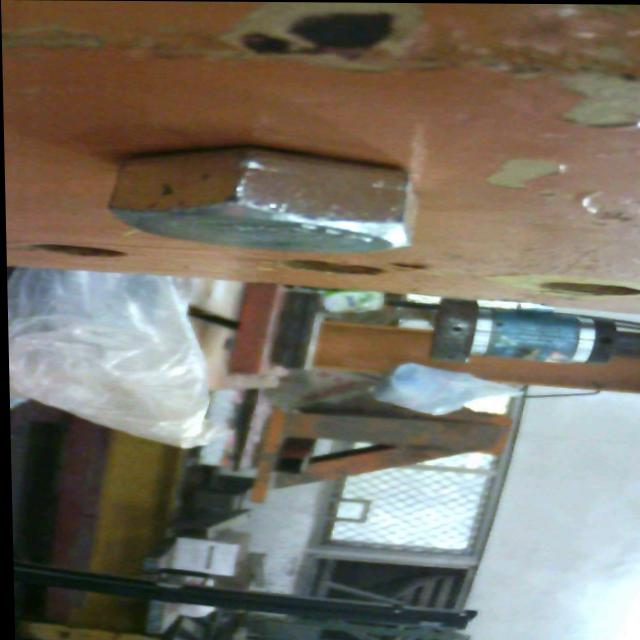Missing bolt: (536, 281, 640, 298), (283, 260, 383, 276), (27, 245, 126, 260)
Regular bolt: (108, 141, 418, 256)
